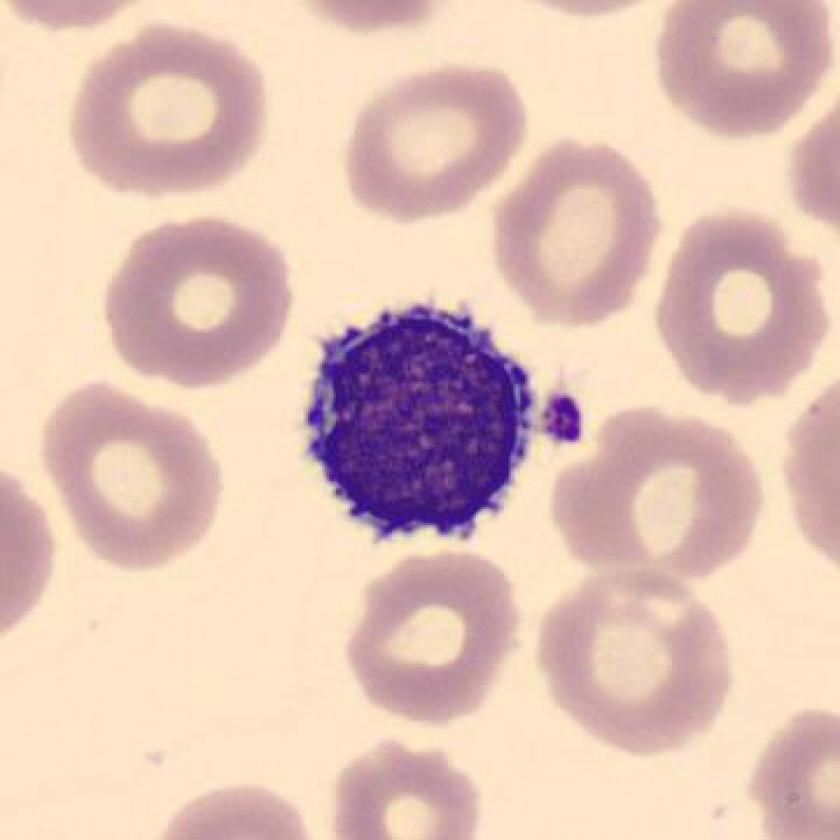lymphocyte: (283, 291, 554, 557)
